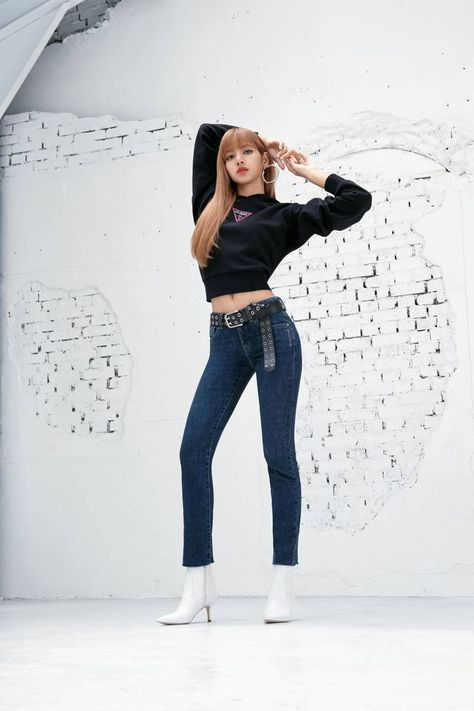person: (155, 115, 382, 631)
